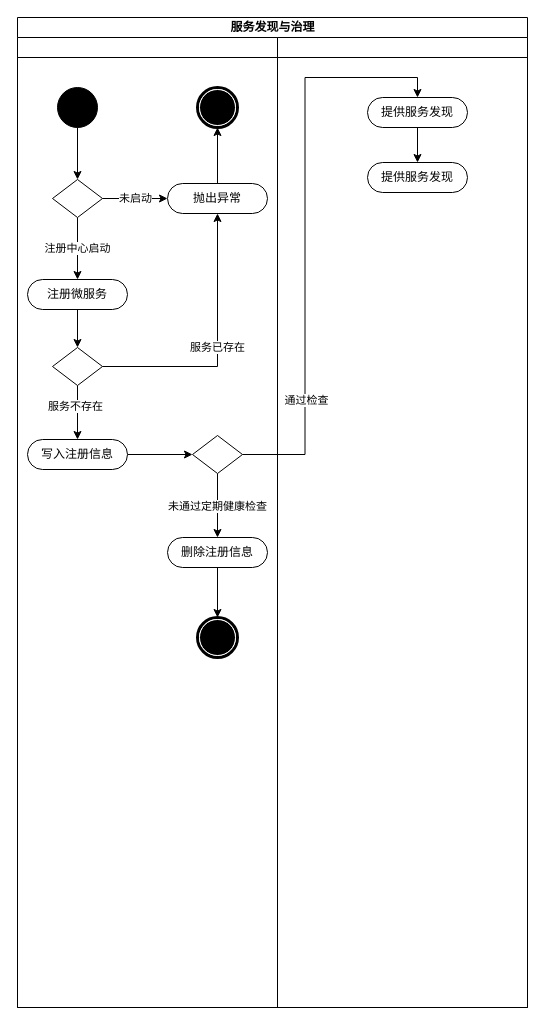
The diagram is 545 pixels wide and 1025 high, and some of its shapes have lost their labels. The box of each missing label's shape, as (x1, y1, x2, y2) in pixels:
微服务注册与健康检查模块: (16, 36, 278, 1008)
服务发现及治理策略模块: (276, 36, 528, 1008)
